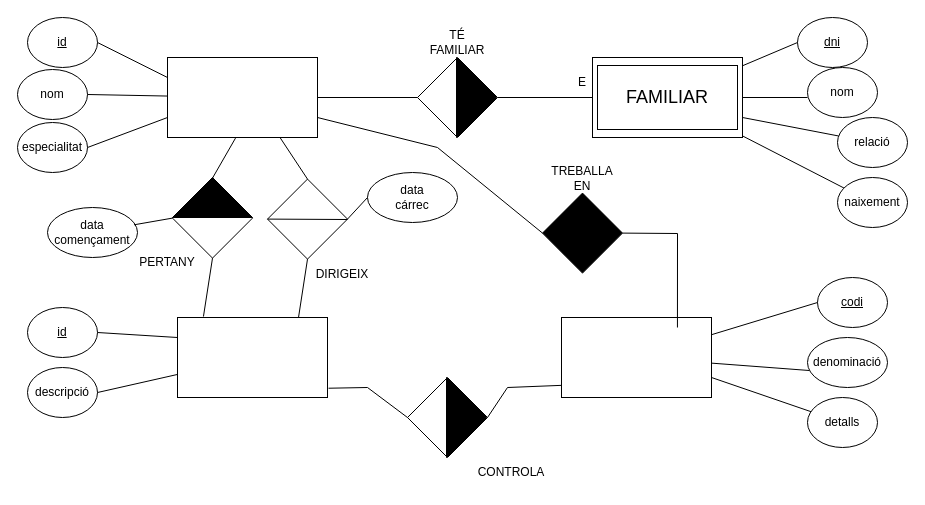
Some shapes in this 925 by 505 pixel diagram are drawn without their labels. The shapes that lost their labels are listed below. From the top down, each one's centre as x and y in pixels, then its label:
the point at 242,97: EMPLEAT
the point at 252,357: DEPARTAMENT
the point at 636,357: PROJECTE
